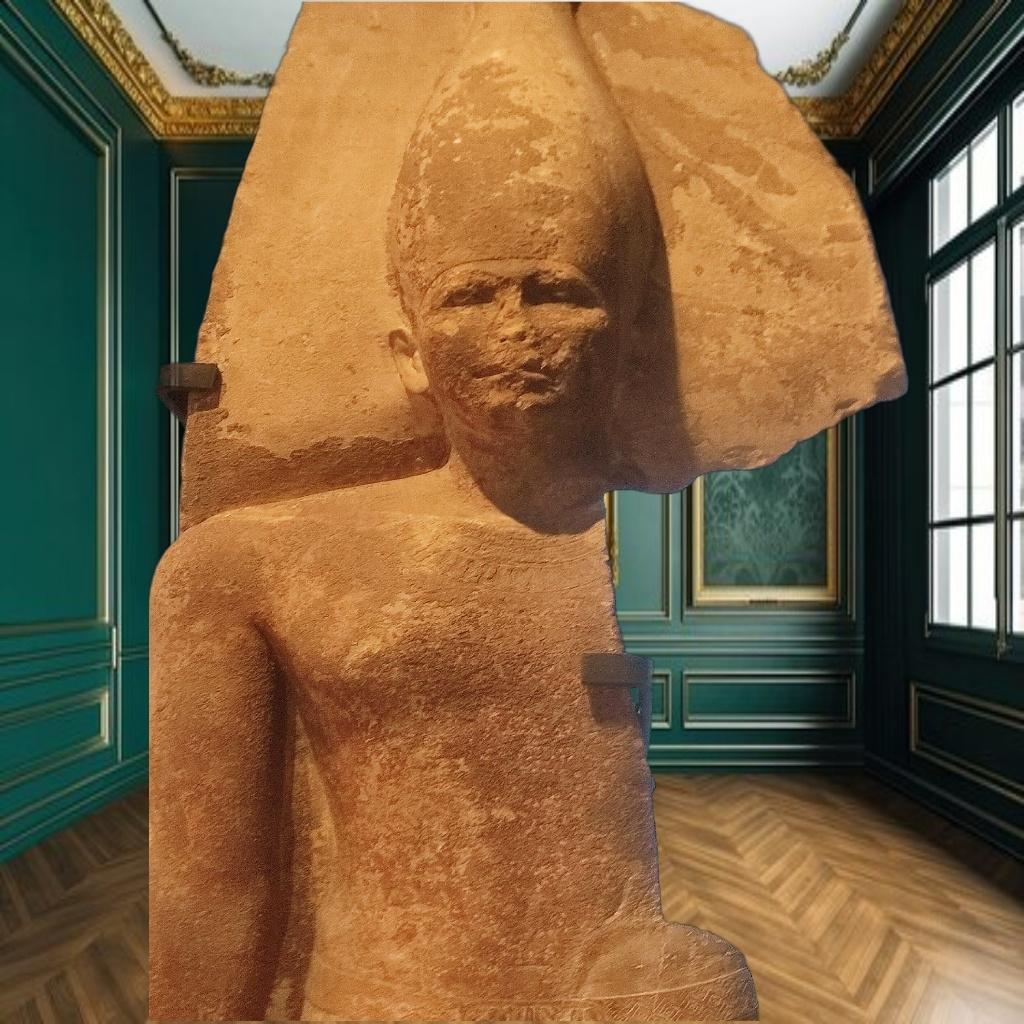Statue of Snefru: (148, 2, 912, 1020)
